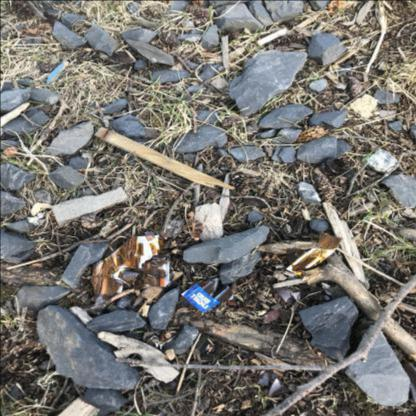Broken glass: (174, 247, 325, 354), (115, 236, 143, 269), (143, 253, 167, 287), (95, 275, 121, 306), (320, 157, 349, 176), (266, 378, 290, 397), (318, 231, 341, 249), (272, 287, 295, 305), (118, 269, 143, 281), (91, 276, 102, 299), (104, 256, 118, 272), (92, 260, 104, 276), (257, 370, 269, 385), (103, 260, 115, 275), (292, 291, 303, 302), (133, 279, 144, 290), (311, 249, 327, 256), (150, 242, 158, 255), (145, 231, 155, 241), (167, 272, 174, 286), (312, 295, 330, 300), (270, 372, 280, 381), (159, 238, 166, 250), (157, 235, 166, 243), (122, 280, 132, 285), (97, 268, 102, 277)
